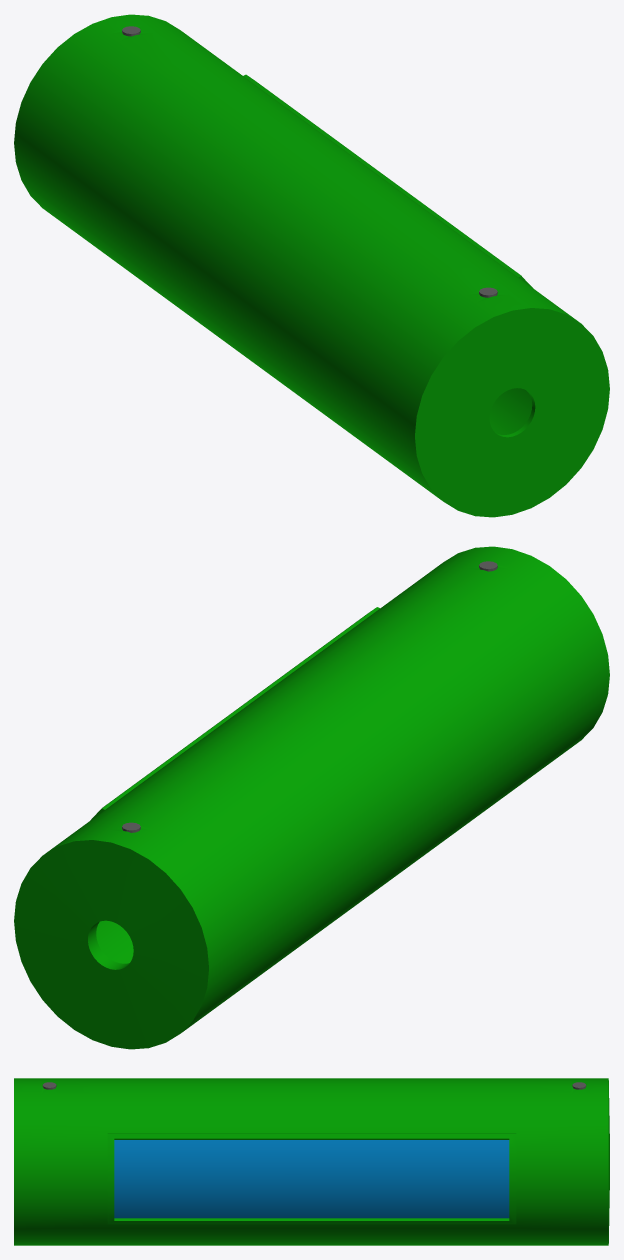
File: enclosure.fbx
3 renders of one model, top to bottom at view 1: azimuth 30°, elevation 25°; view 2: azimuth 150°, elevation 25°; view 3: azimuth 270°, elevation 25°, orthographic. The views are drawn at different scales.
Parts seen in each view (by area): view 1: Enclosure; view 2: Enclosure; view 3: Enclosure.
Boxes of the visible parts, <box> form: Enclosure: <box>14,14,609,517</box>; Enclosure: <box>14,546,609,1049</box>; Enclosure: <box>14,1078,609,1245</box>.
Size of the model in its own units: 346 by 343 by 1215.
